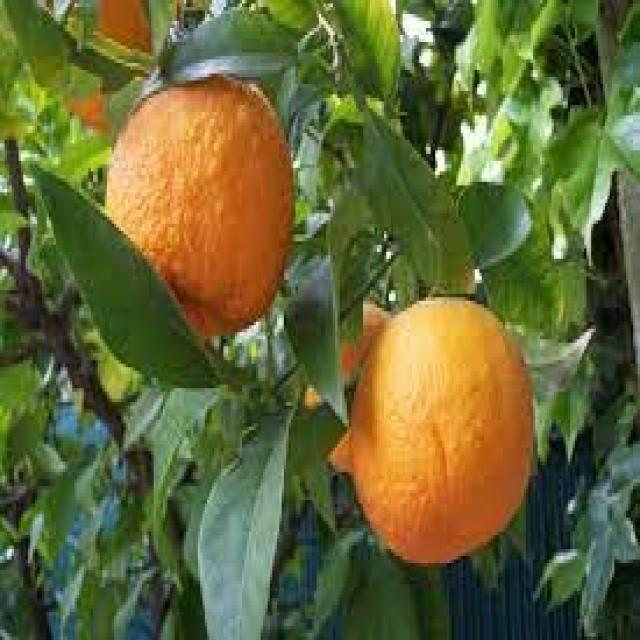Good_Orange: (105, 77, 293, 343), (351, 297, 535, 567)
